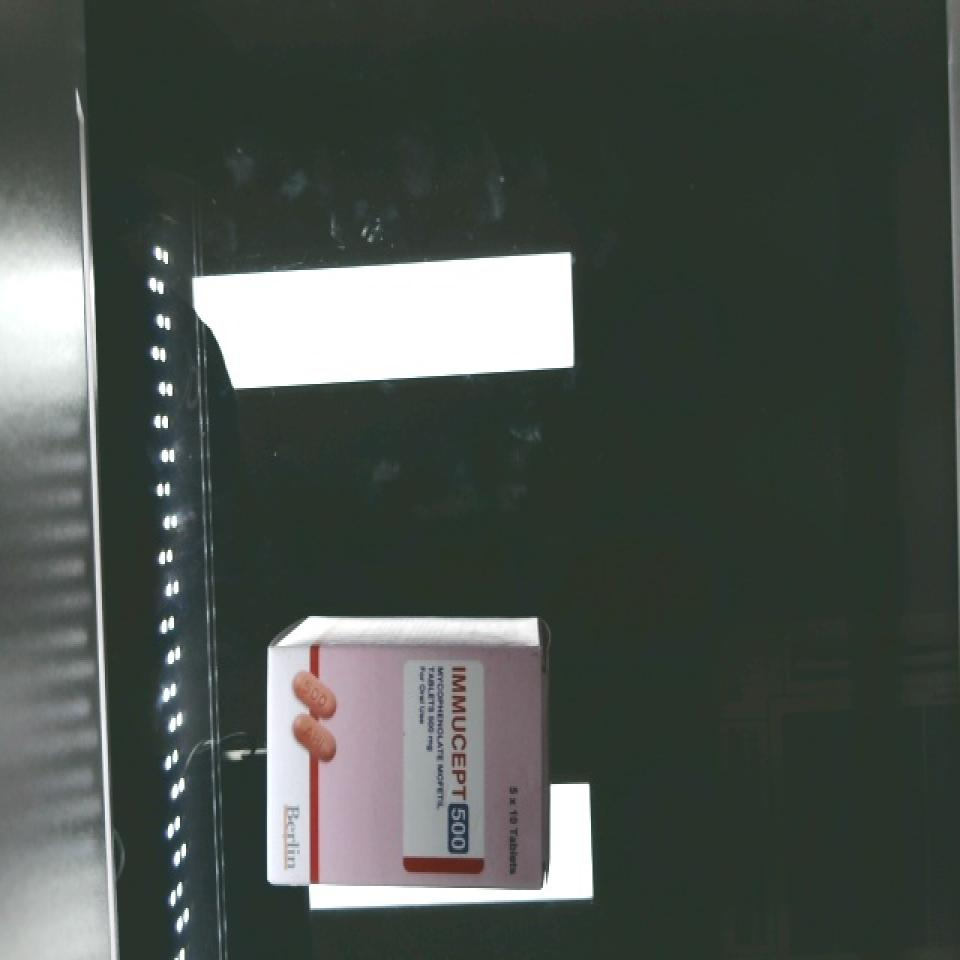medicine_box: (267, 643, 538, 885)
medicine_label_obb: (437, 659, 483, 876)
